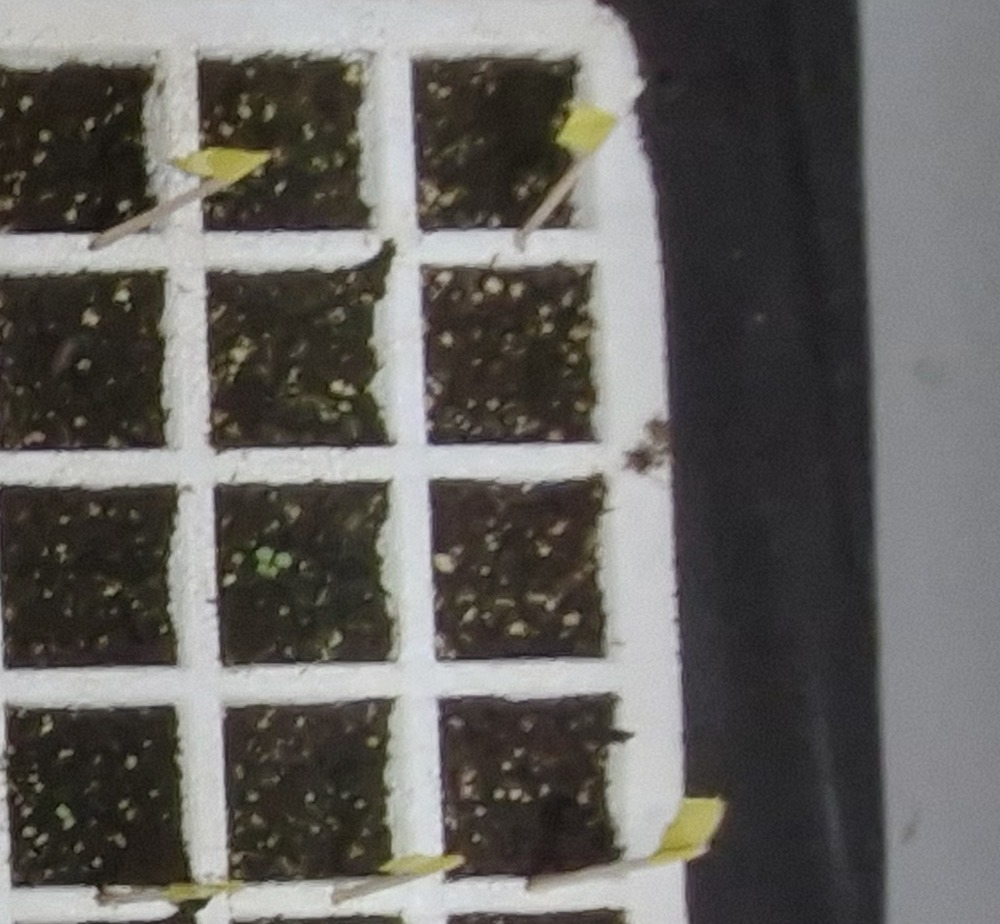Folha: (256, 561, 279, 578), (256, 545, 273, 562), (275, 554, 293, 567)
Germinacao: (256, 547, 295, 577)
